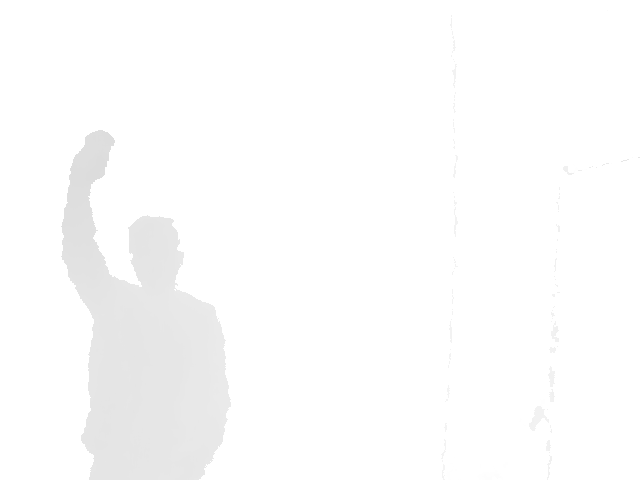hand: (68, 129, 116, 184)
head: (127, 214, 186, 295)
person: (60, 129, 232, 480)
